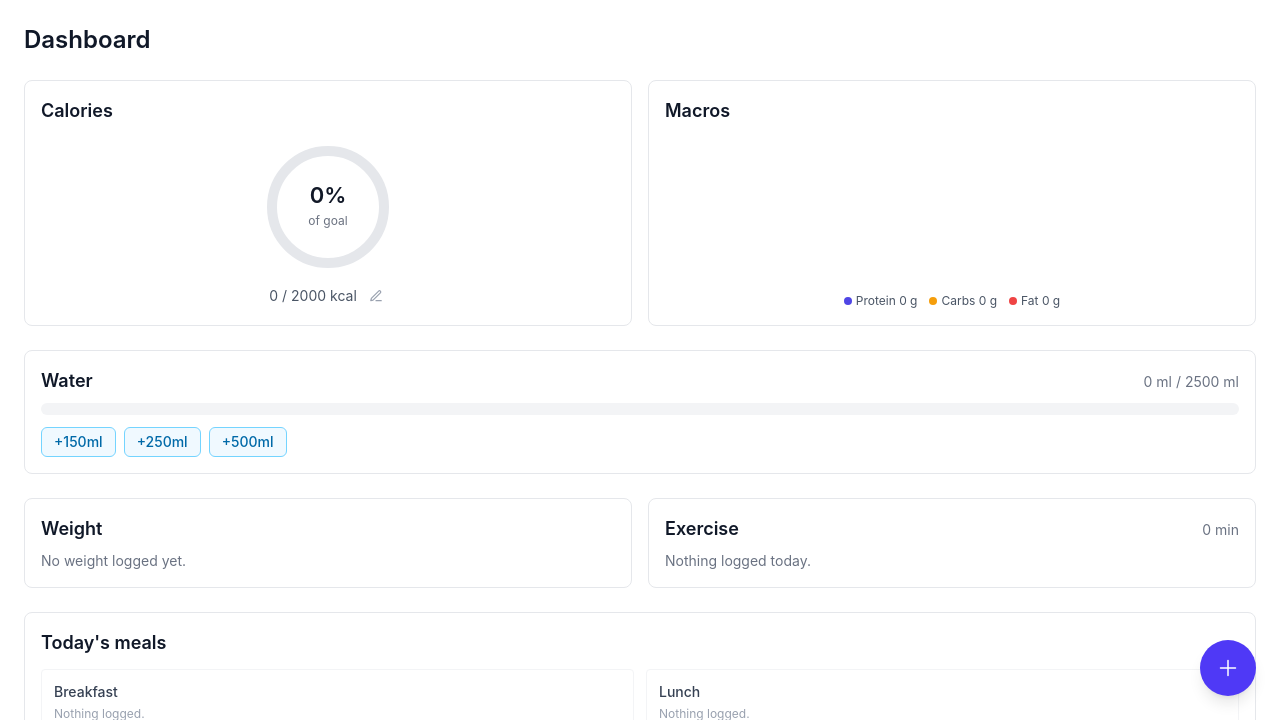
Test: Dashboard page › opens a popover pre-filled with the current goal when the pencil is clicked
The image size is (1280, 720).
What coordinates should you click on to do the following:
click the button named "edit calorie goal"
I would click on:
 (376, 296)
Its box is [365,285,387,307].
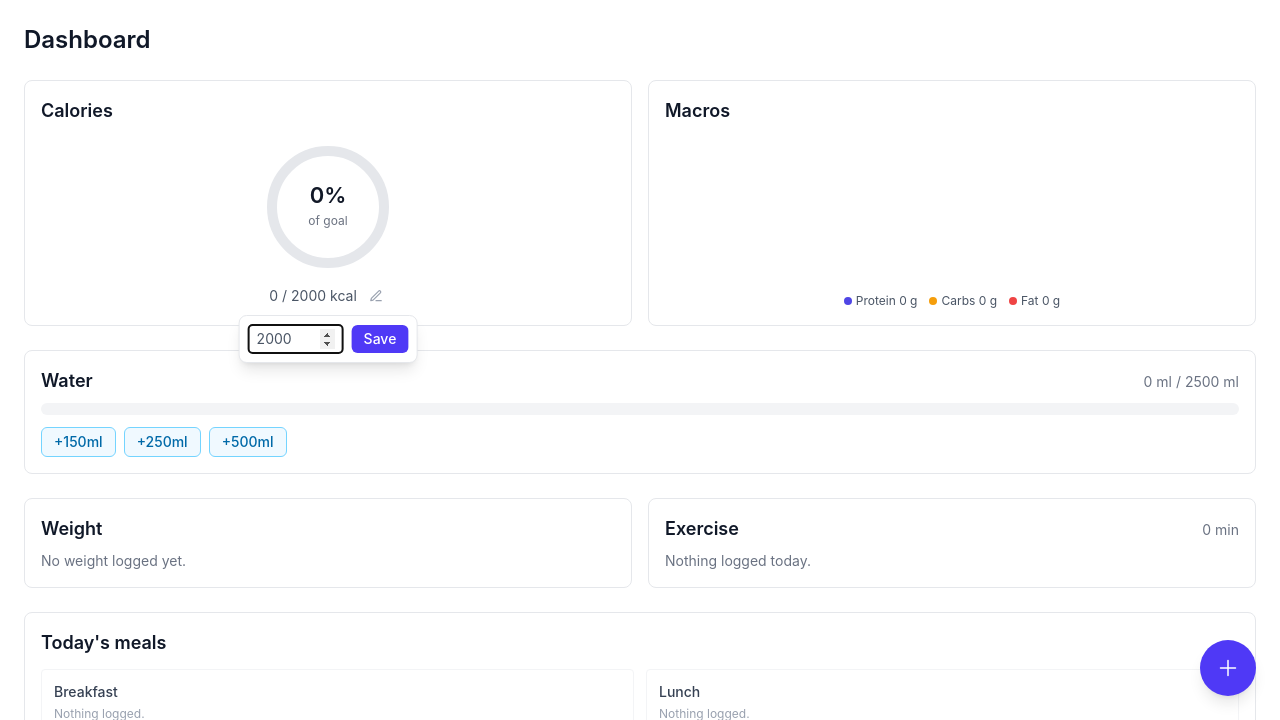
Check: the number field named "calorie goal" holds "2000", box [248,324,344,354]
